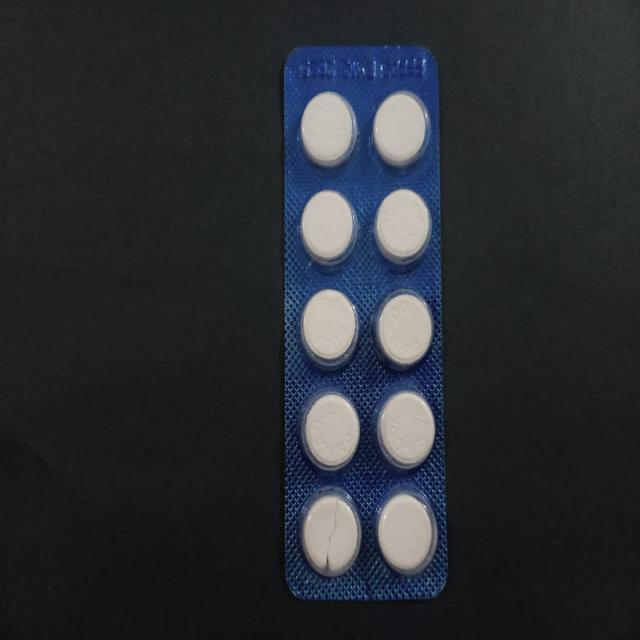defect: (298, 486, 364, 582)
